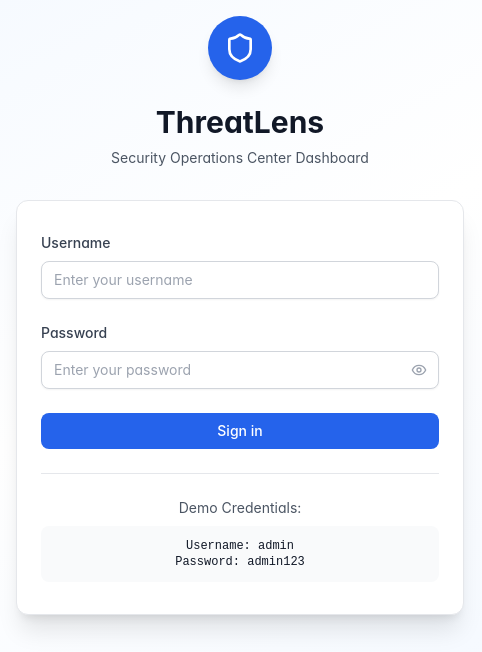
Test: LoginPage › shows loading state during login
Step 1. Type "admin" into the field labelled "Username" → {"x": 240, "y": 280}, box [41,260,439,298]
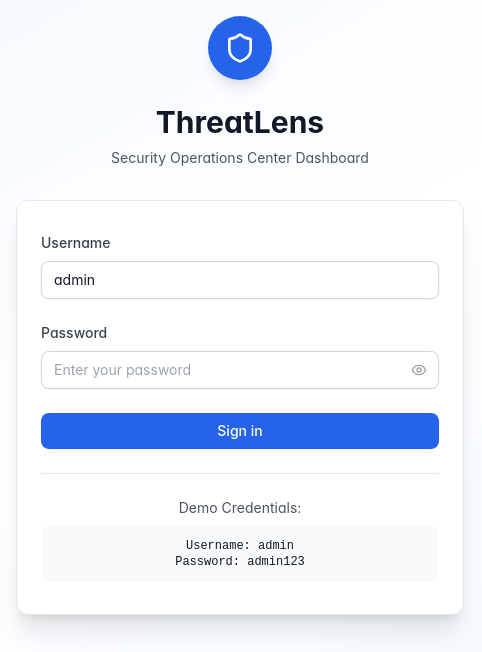
Step 2. Type "admin123" into the password field labelled "Password" → {"x": 240, "y": 370}, box [41,350,439,388]
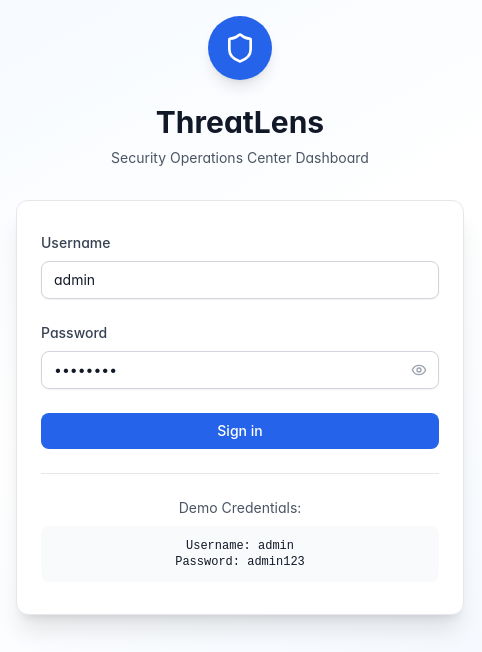
Step 3. Click the button "Sign in" → {"x": 240, "y": 430}, box [41,412,439,448]
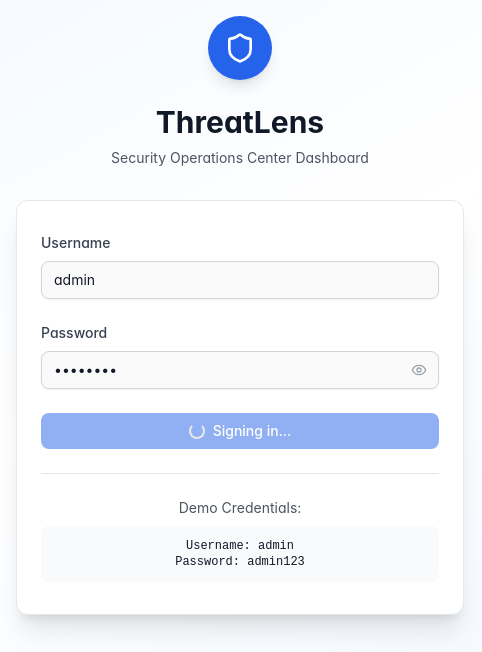
Now the button "Signing in..." is disabled, box [41,412,439,448]
